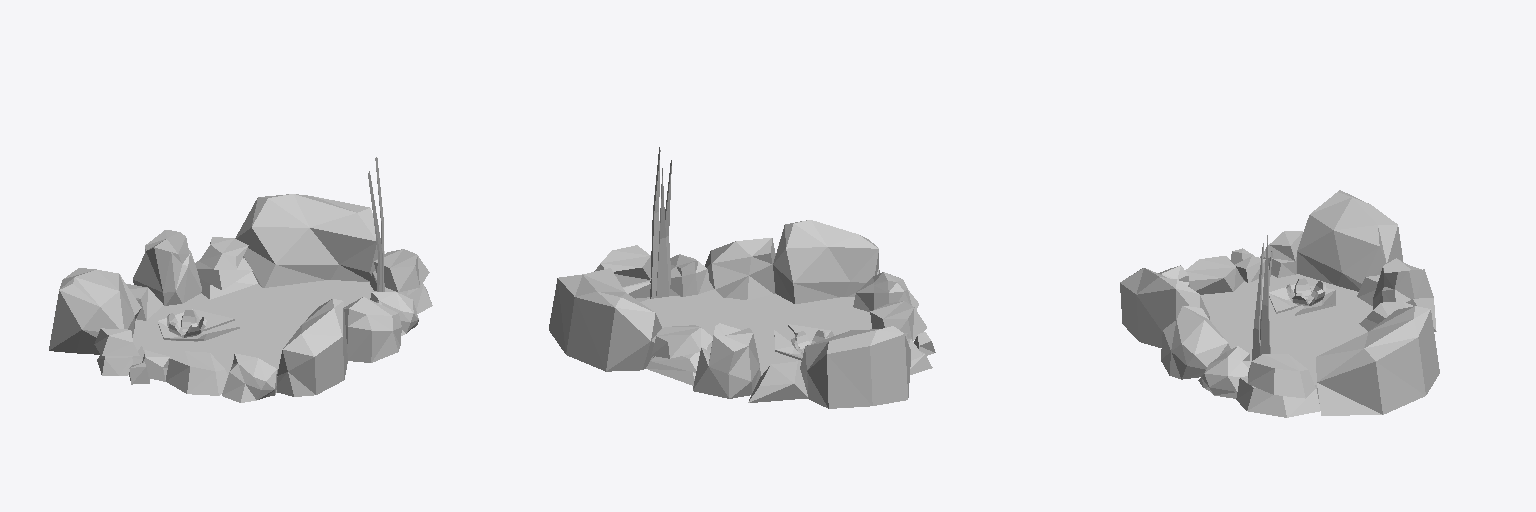
The picture shows the model from 3 angles: view 1: azimuth 30°, elevation 25°; view 2: azimuth 150°, elevation 25°; view 3: azimuth 270°, elevation 25°; orthographic projection.
Visible parts, largest first — view 1: node-0_buffer-0-mesh-0; view 2: node-0_buffer-0-mesh-0; view 3: node-0_buffer-0-mesh-0.
Boxes of the visible parts, <box> form: node-0_buffer-0-mesh-0: <box>49,157,432,402</box>; node-0_buffer-0-mesh-0: <box>549,147,935,408</box>; node-0_buffer-0-mesh-0: <box>1120,190,1439,417</box>.
Size of the model in its own units: 2.19 by 0.929 by 1.75.